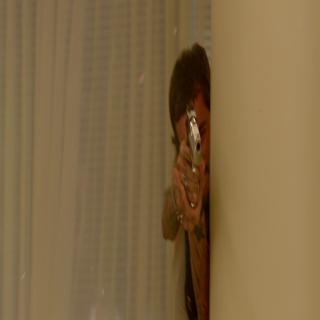gun: (179, 91, 207, 214)
